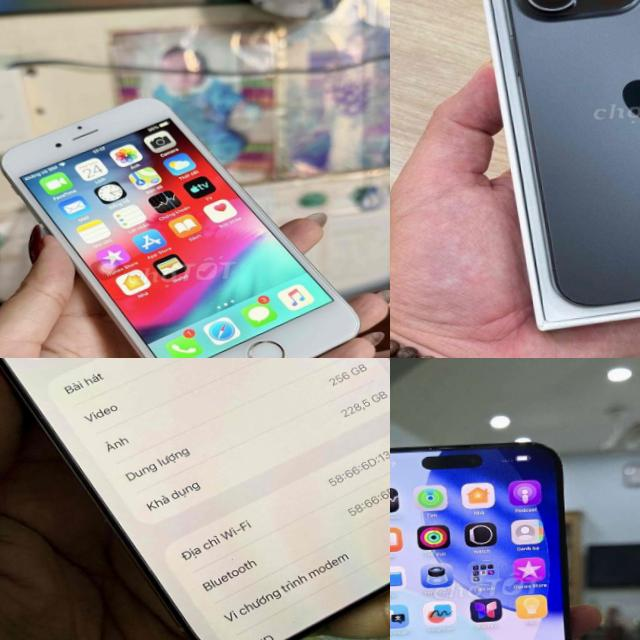gen_12_13: (390, 441, 593, 640)
gen_15: (472, 0, 640, 333)
gen_16: (0, 358, 390, 640)
gen_6: (0, 73, 379, 358)
